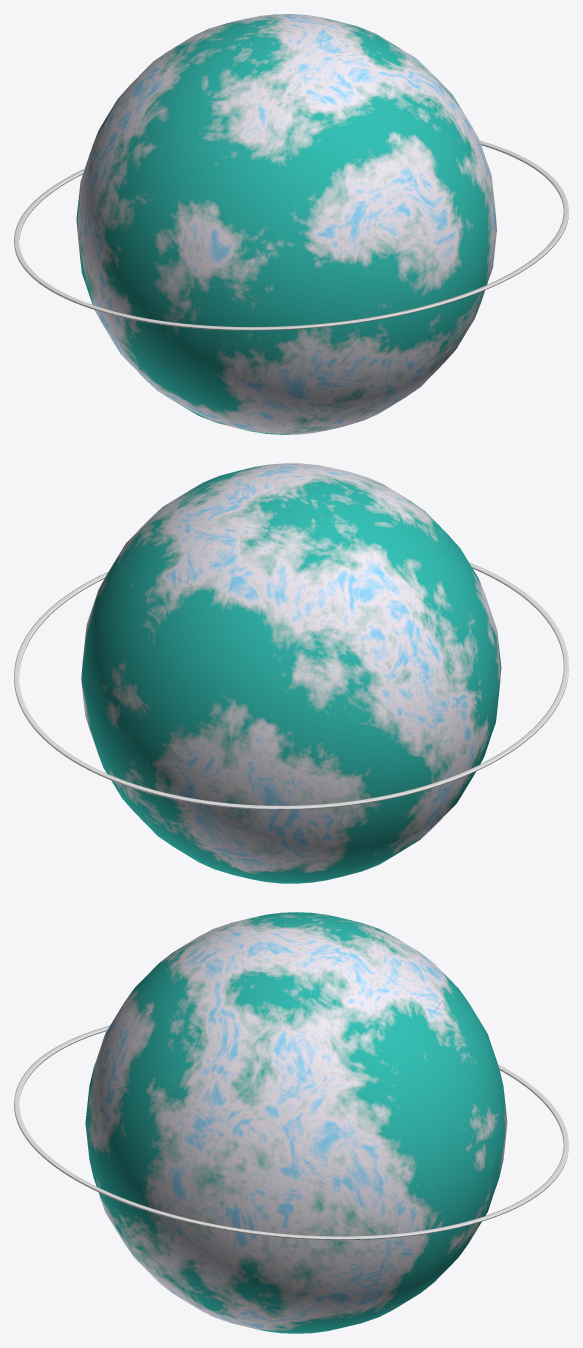
File: planet7.fbx
The picture shows the model from 3 angles, top to bottom: view 1: azimuth 30°, elevation 25°; view 2: azimuth 150°, elevation 25°; view 3: azimuth 270°, elevation 25°; orthographic projection.
Parts seen in each view (by area): view 1: planet7, ring; view 2: planet7, ring; view 3: planet7, ring.
Part boxes in pixels (left/top/right/bottom): planet7: left=76, top=14, right=496, bottom=434; ring: left=14, top=140, right=568, bottom=330; planet7: left=81, top=463, right=501, bottom=883; ring: left=14, top=562, right=568, bottom=809; planet7: left=85, top=912, right=507, bottom=1333; ring: left=14, top=1025, right=568, bottom=1239.
Size of the model in its own units: 300 by 228 by 299.
Materials: 2 (1 with a texture image).
